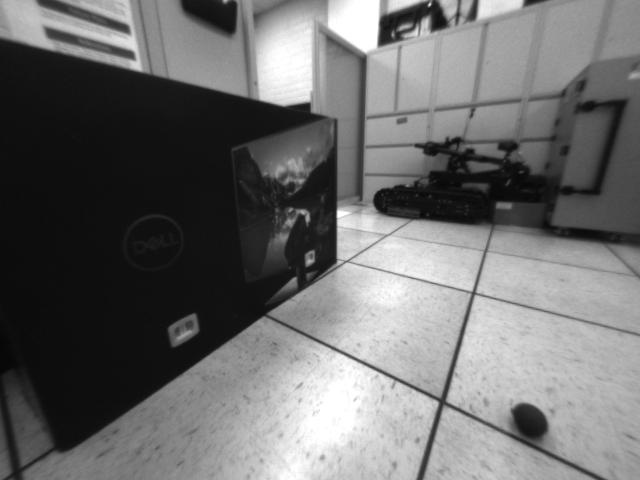dogtoy: (507, 395, 555, 446)
